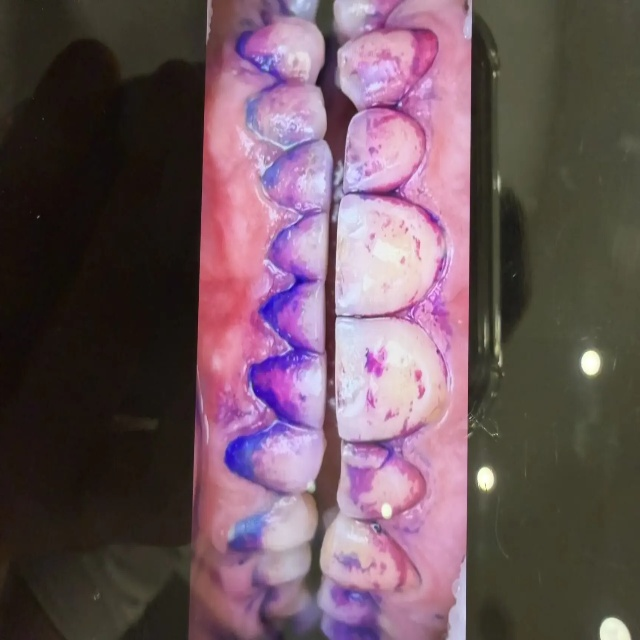plaque: (248, 0, 454, 499), (349, 426, 462, 563), (227, 0, 306, 127), (379, 254, 456, 376), (292, 579, 440, 639), (224, 510, 288, 639)
